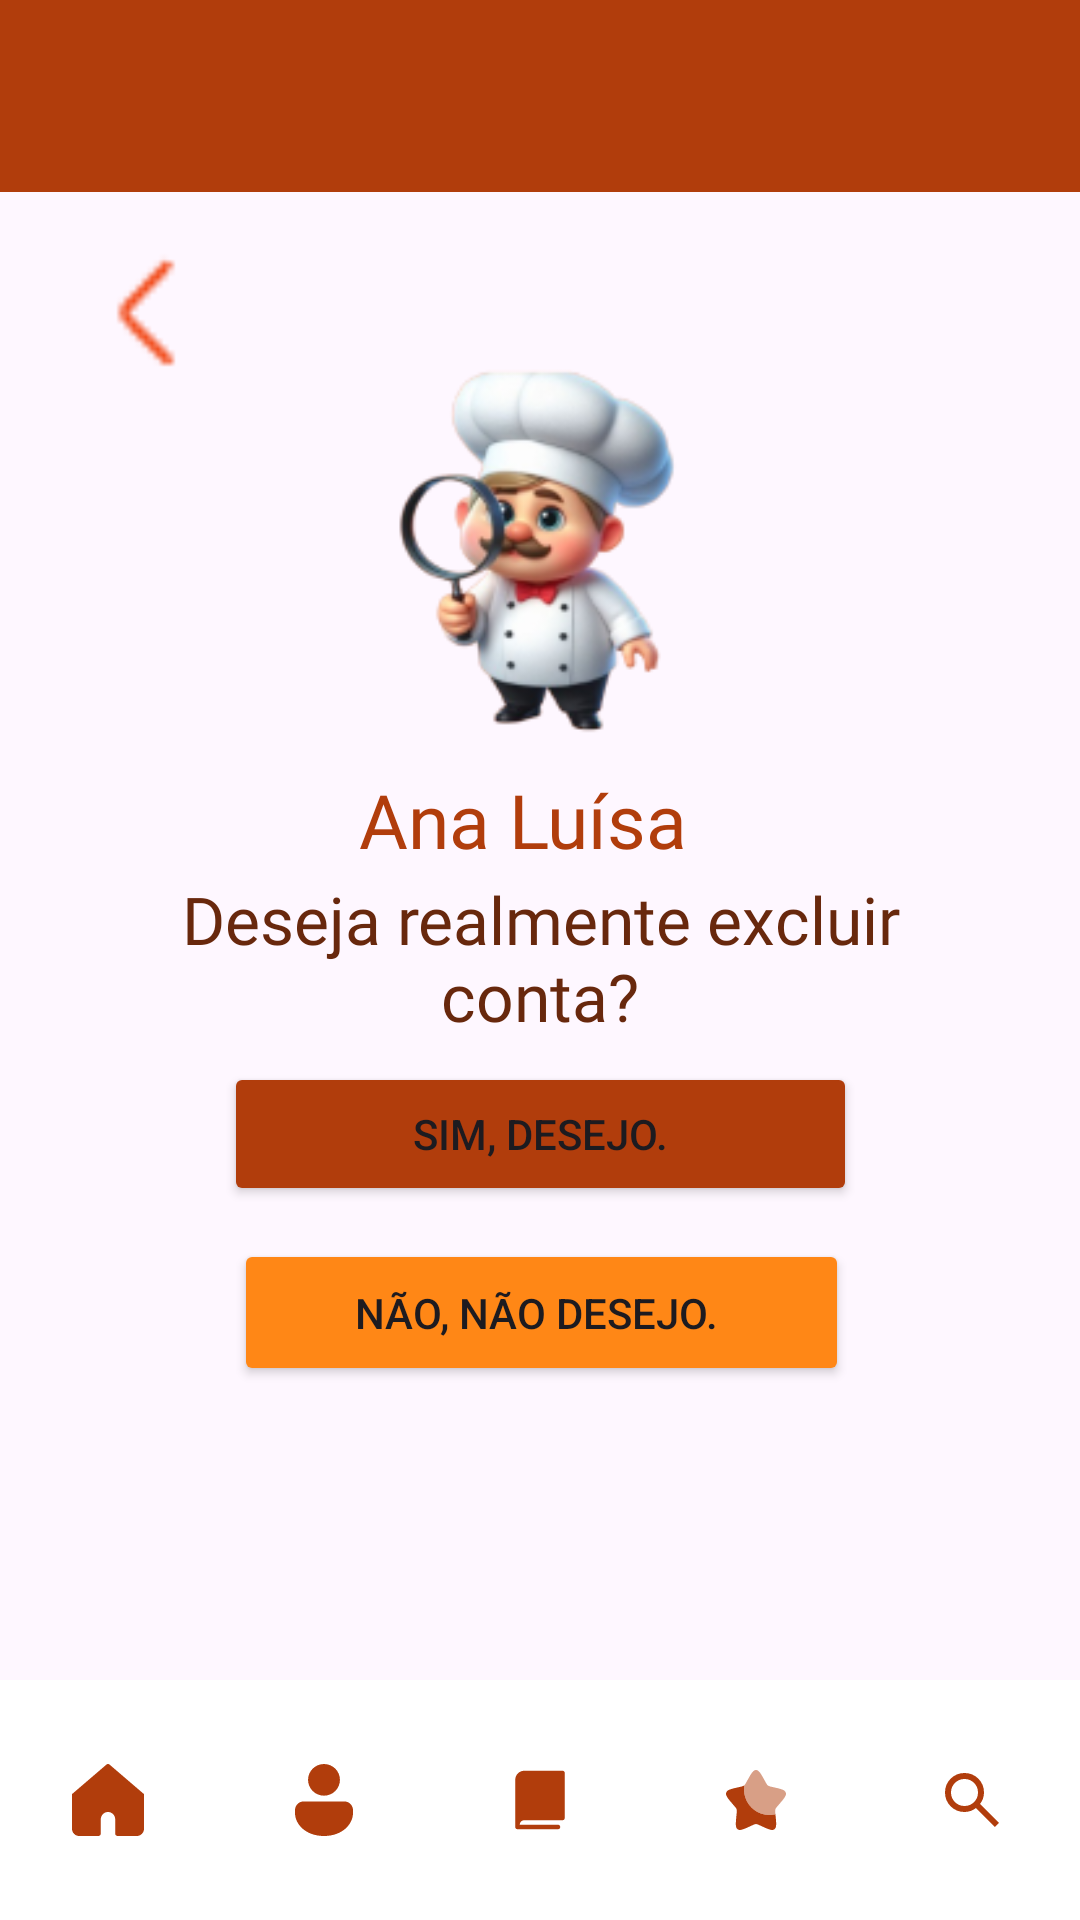

Icon click points for this 1080w x 1920h phone screenshot, format [x,y]:
voltar para tela de perfil: [146,312]
